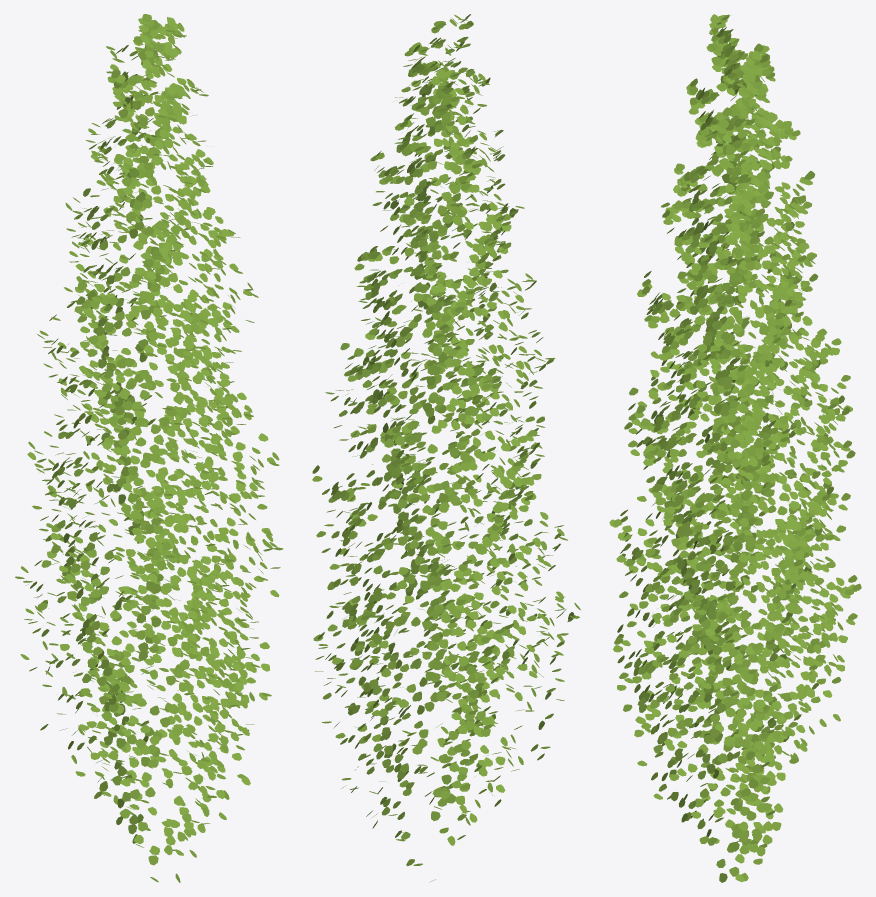
The model's file is real-tree-leaves.glb.
3 renders of one model, left to right at view 1: azimuth 30°, elevation 25°; view 2: azimuth 150°, elevation 25°; view 3: azimuth 270°, elevation 25°, orthographic. The views are drawn at different scales.
Parts seen in each view (by area): view 1: leaves2; view 2: leaves2; view 3: leaves2.
Part boxes in pixels (box(x1,y1,x2,y2)): leaves2: box(15, 14, 283, 882); leaves2: box(312, 14, 580, 882); leaves2: box(609, 14, 861, 882).
Bounding box in the file's own units: 7 × 24.8 × 6.62.
